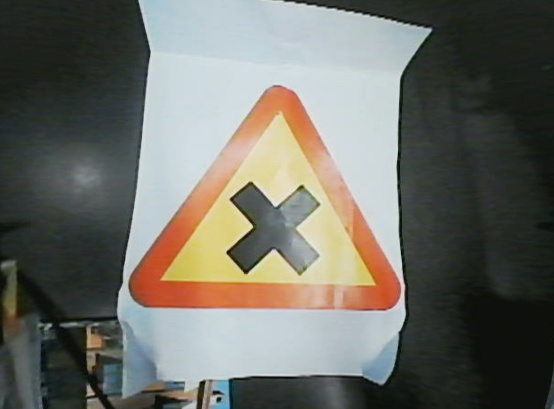junction: (110, 79, 407, 319)
